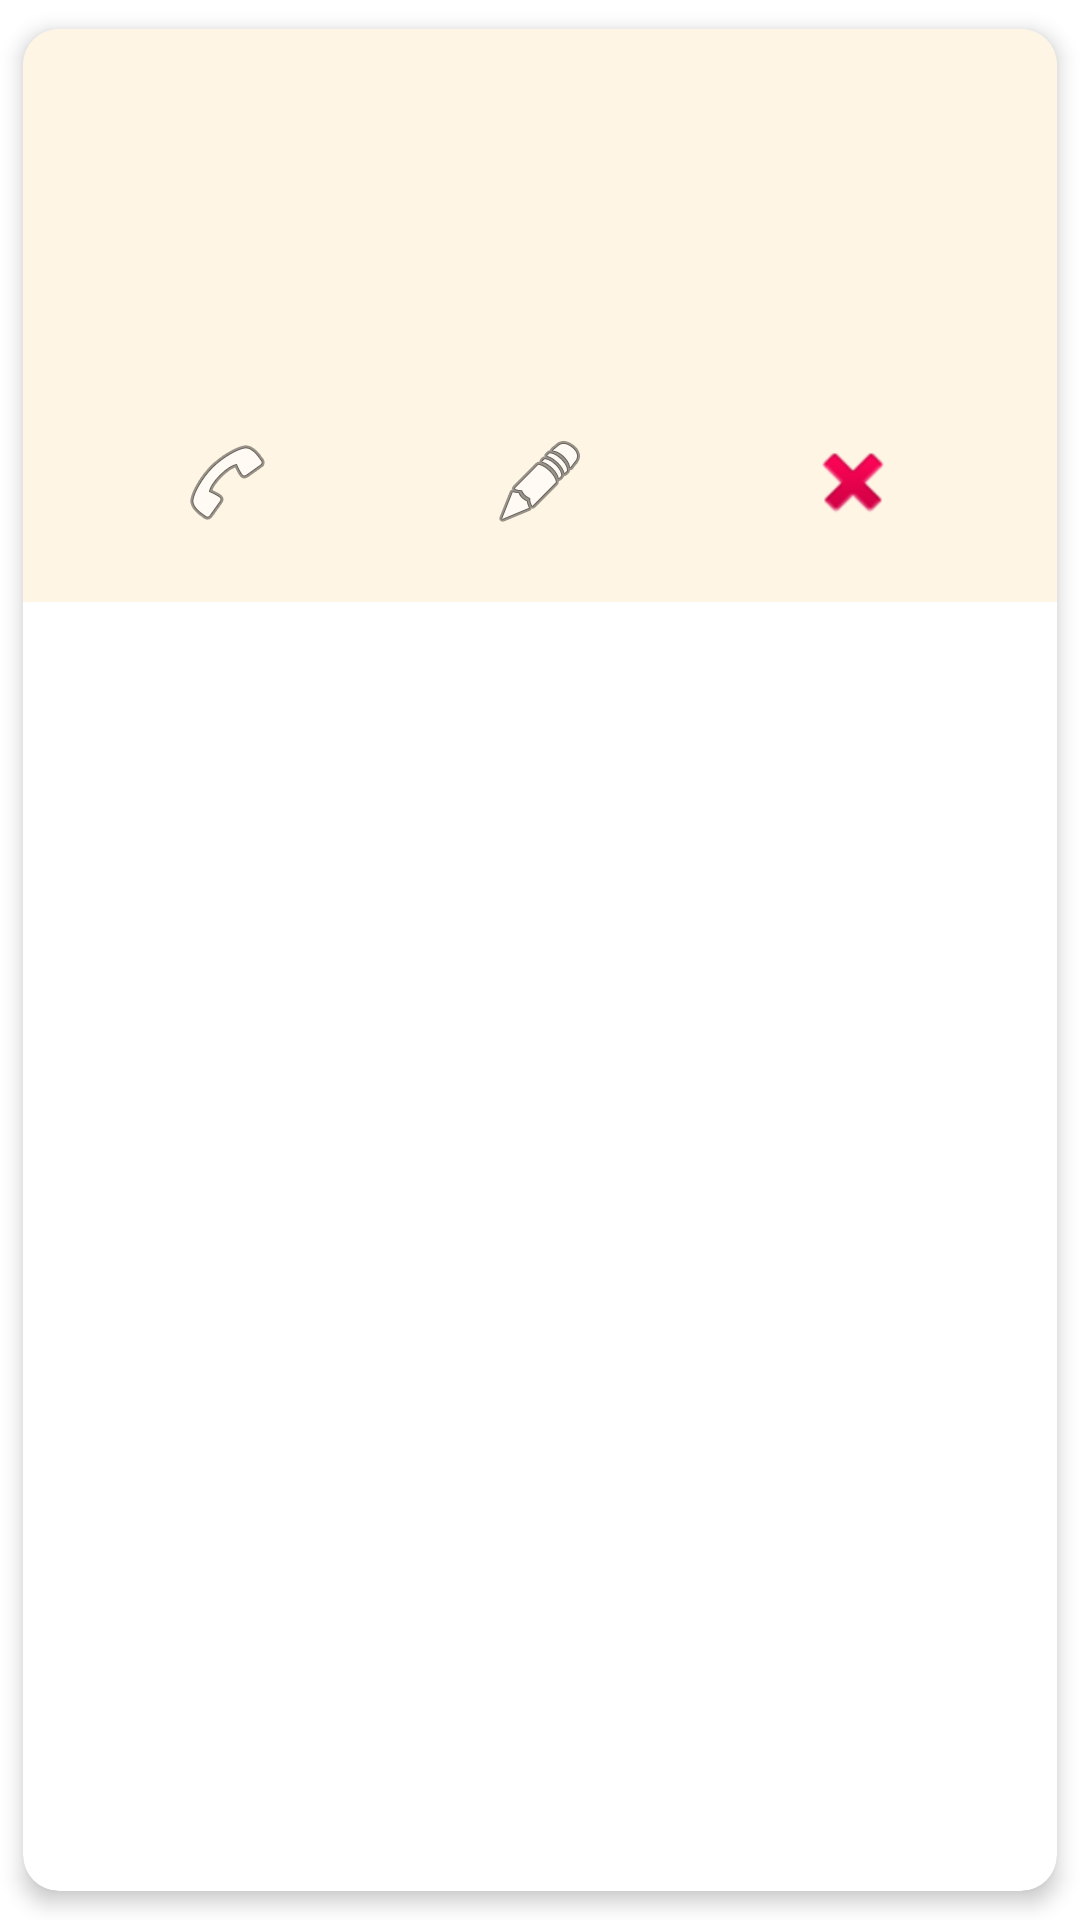

Screen size 1080w x 1920h. Icon name, then its center in pixels as (x=x, y=y):
call: (x=227, y=482)
delete: (x=853, y=482)
edit: (x=539, y=481)
